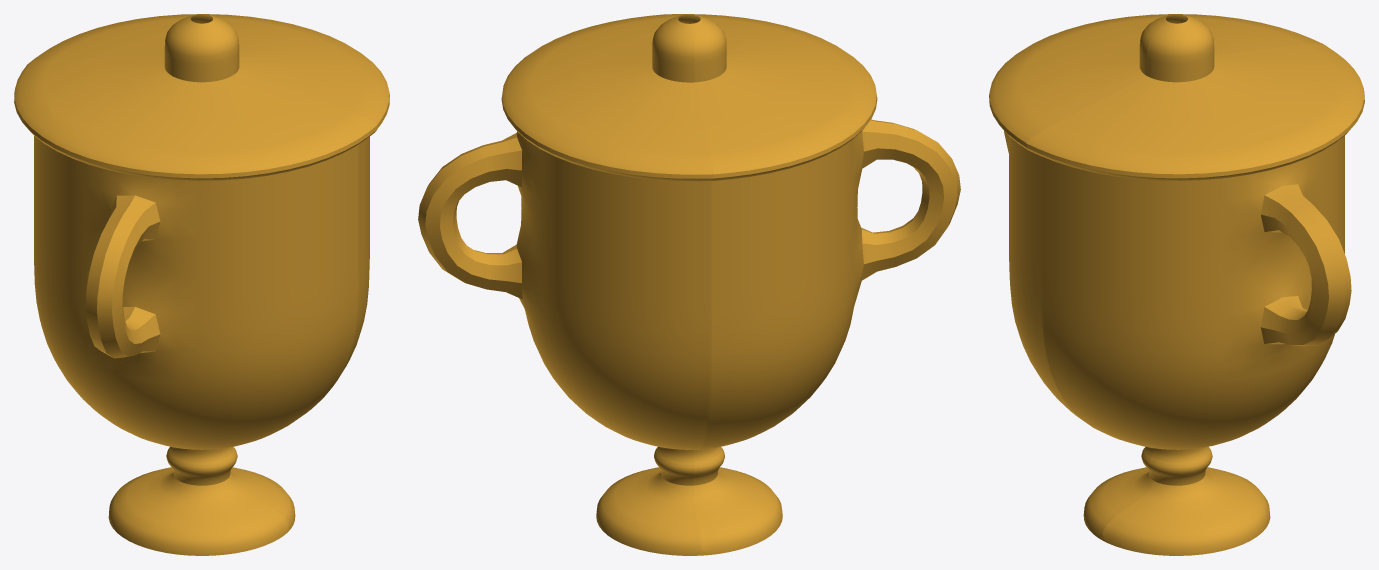
The model's file is Trophy.fbx.
3 views of the same model, side by side, from view 1: azimuth 30°, elevation 25°; view 2: azimuth 150°, elevation 25°; view 3: azimuth 270°, elevation 25° (orthographic).
Parts seen in each view (by area): view 1: Sphere; view 2: Sphere; view 3: Sphere.
Boxes of the visible parts, <box> form: Sphere: <box>14,14,389,555</box>; Sphere: <box>418,14,960,555</box>; Sphere: <box>989,14,1364,555</box>.
Bounding box in the file's own units: 45.42 × 56.2 × 38.47.
